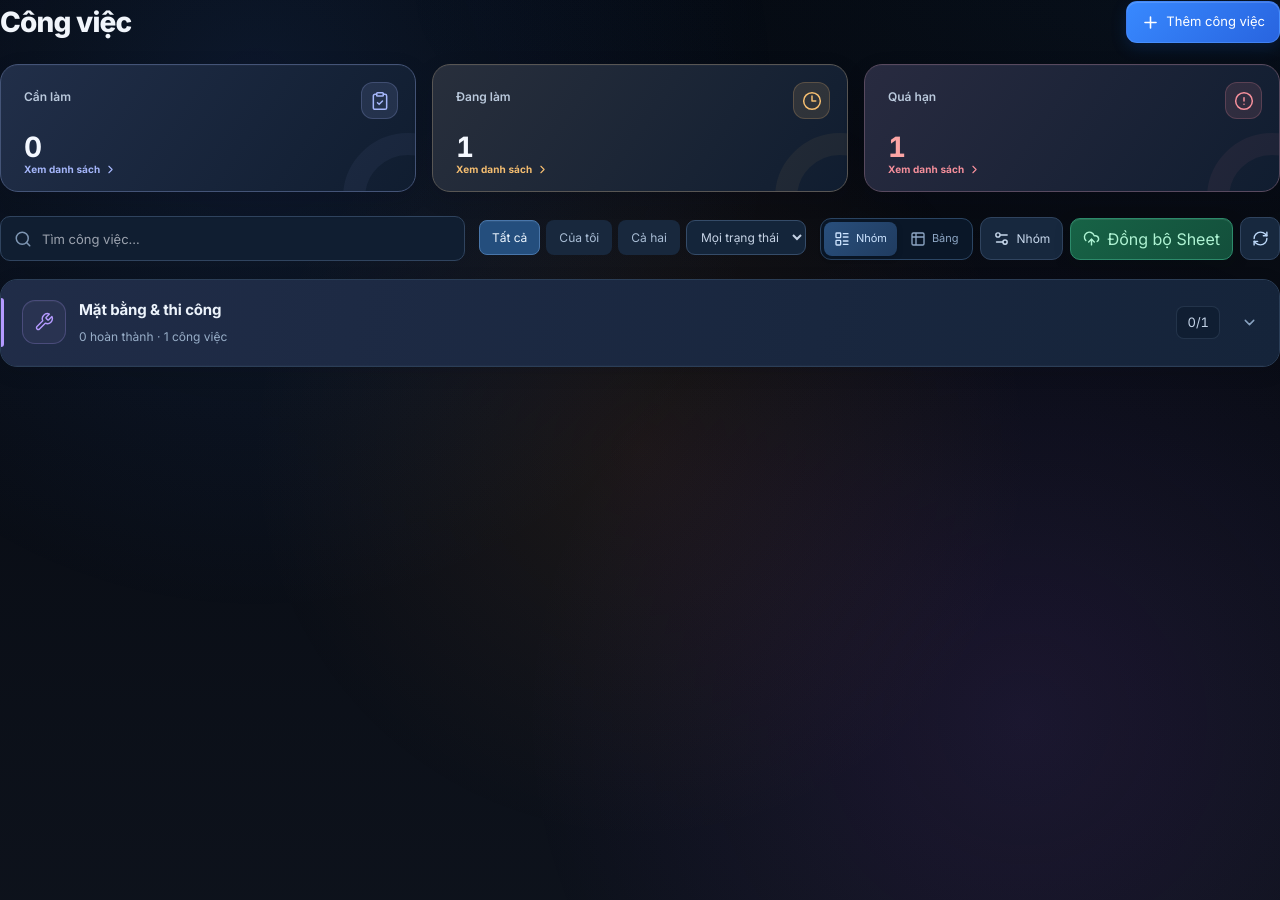
Test: Checklist and Budget interactions › keeps the form open and reports backend conflicts instead of pretending to save
Click the button "Mặt bằng & thi công 0 hoàn thành · 1 công việc 0/1": (44, 322) [1,280,1279,366]
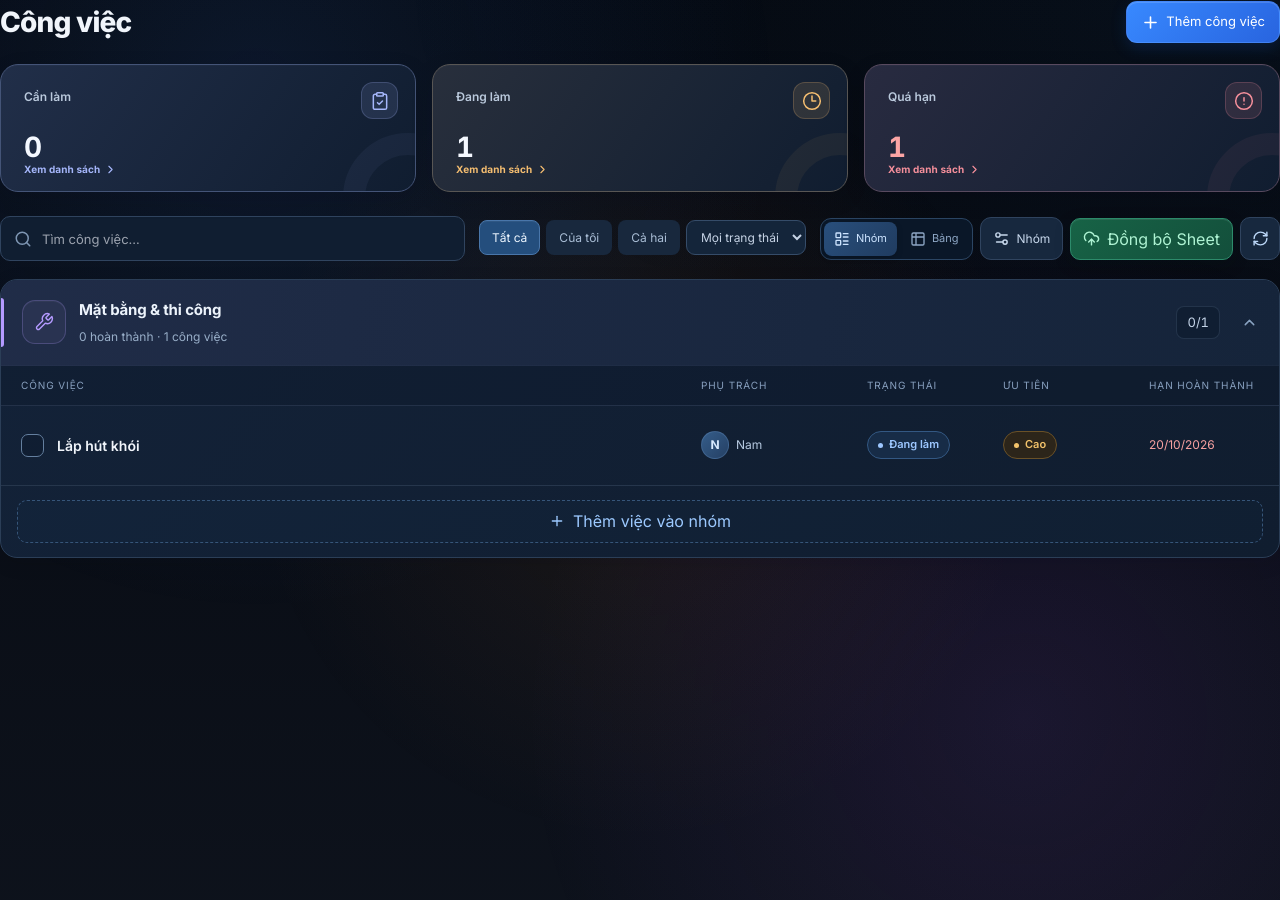
Click the button with aria-label "Mở Lắp hút khói": (98, 445) [1,406,1279,486]
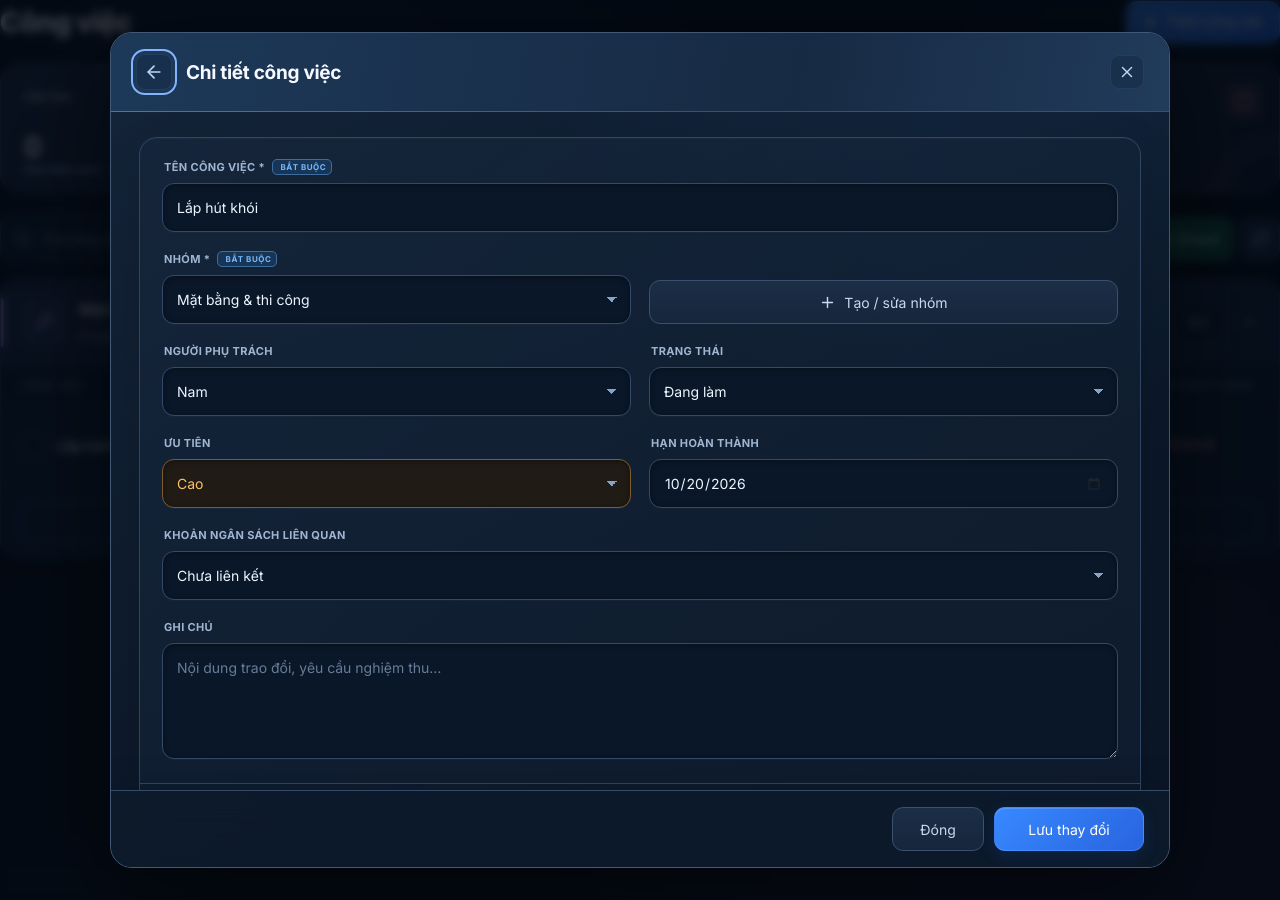
Click the button "Lưu thay đổi": (1069, 829) [994,807,1144,851]
(page scrolled)
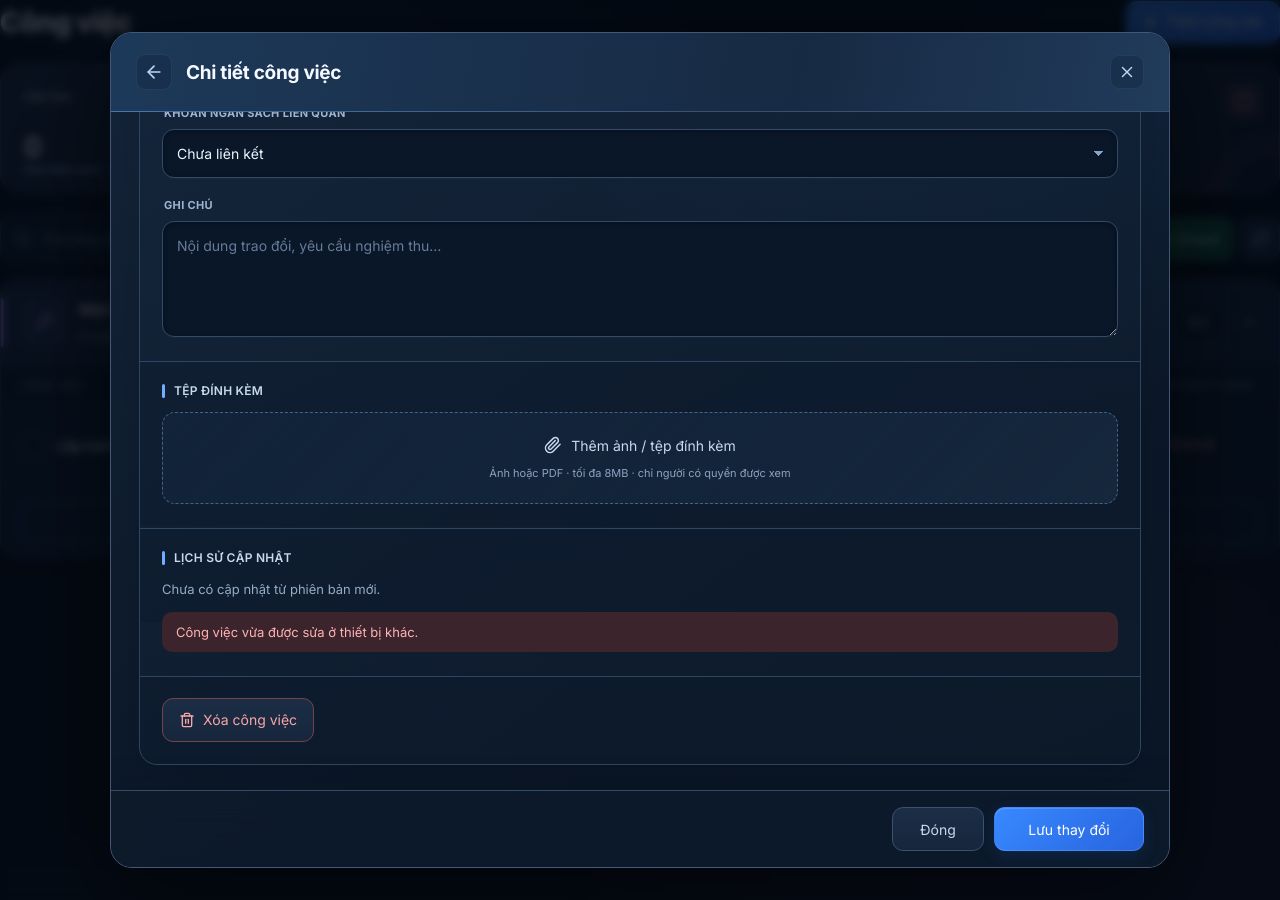
expect the message reads "Công việc vừa được sửa ở thiết bị khác.": met, box [176,624,418,640]
